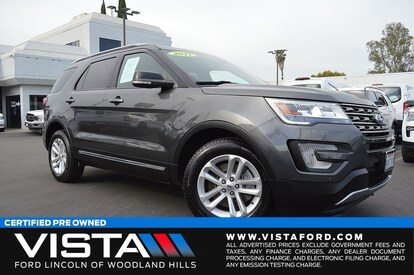Ford Explorer: (43, 44, 396, 229)
